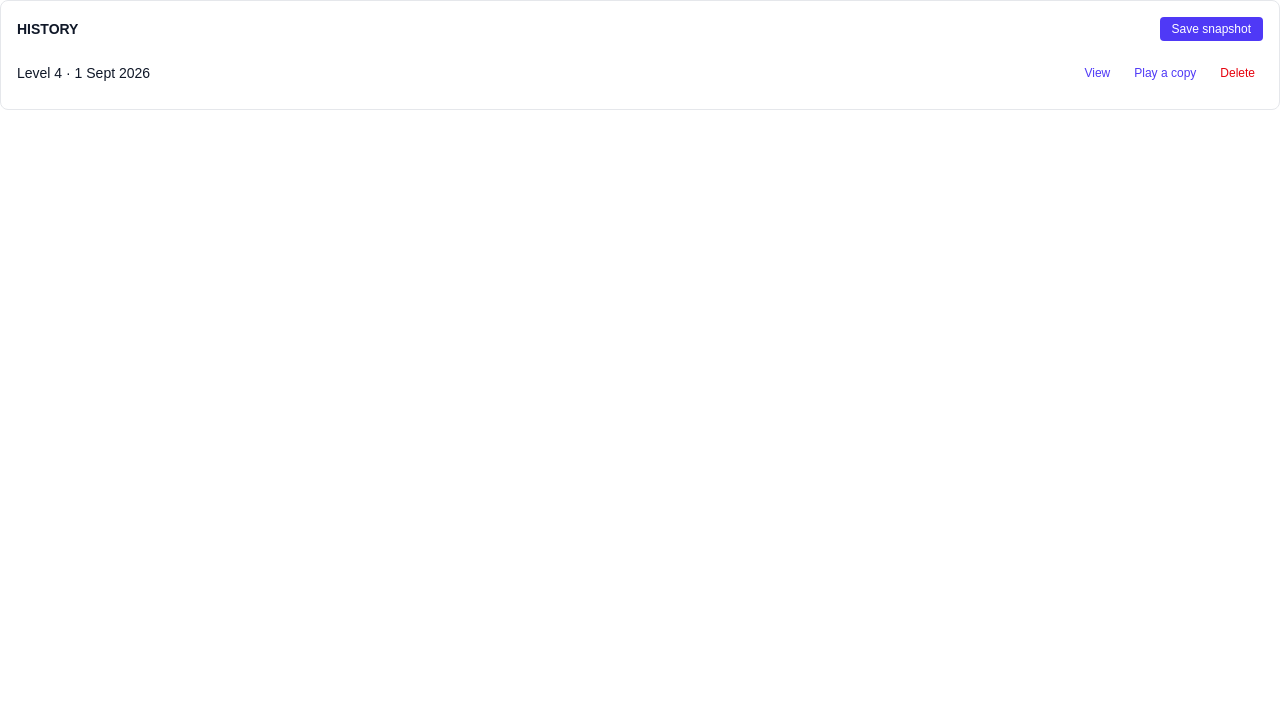
Scenario: CharacterHistorySection (VEG-644) › save snapshot › posts the label, toasts, closes the dialog and refetches the list
This screenshot has width=1280, height=720.
Check: the text "Level 4 · 1 Sept 2026" is shown, box [17,63,150,83]
Click the button "Save snapshot" at (1211,29), box [1160,17,1263,41]
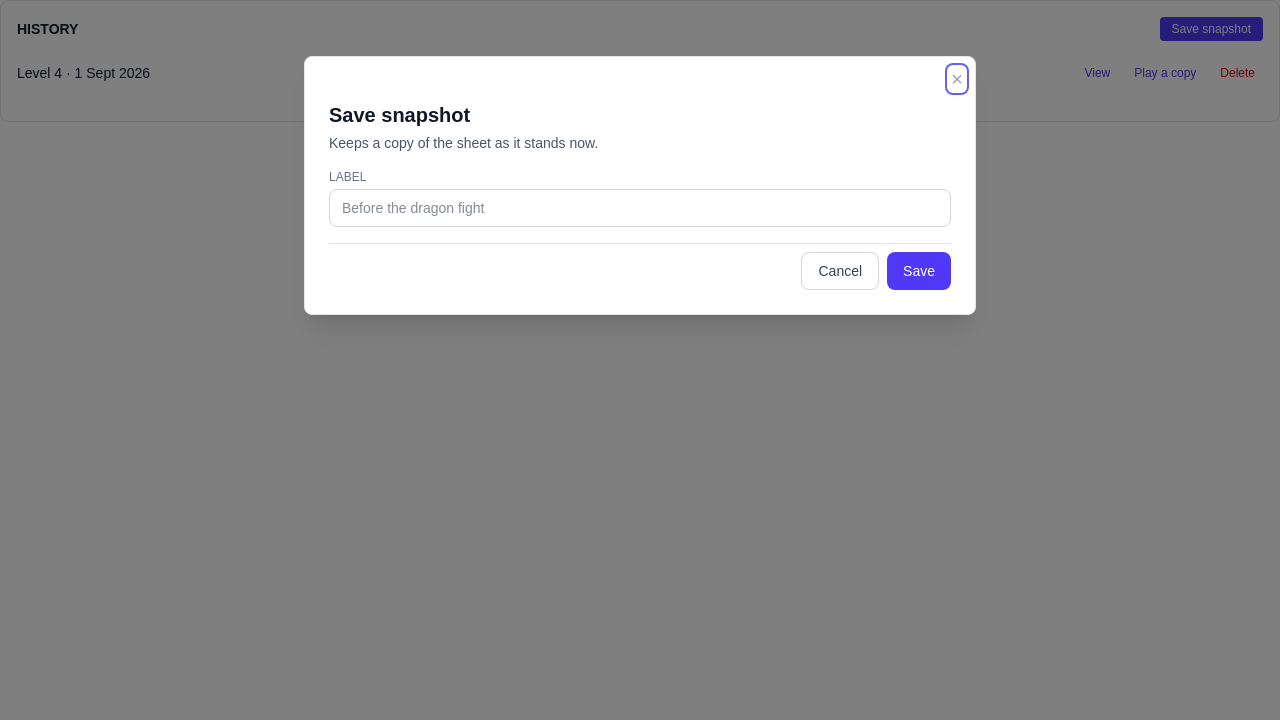
Type "Before the dragon" into the field labelled "Label" at (640,208), box [329,189,951,227]
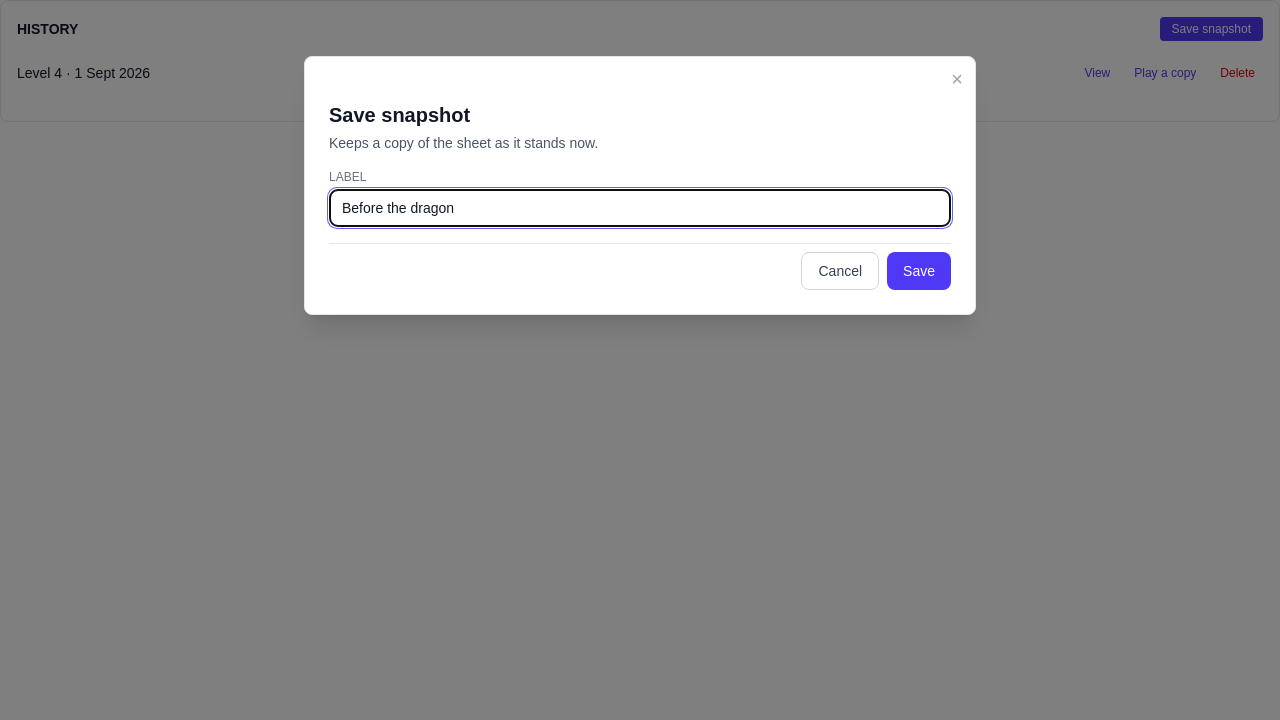
Click the button "Save" at (919,271), box [887,252,951,290]
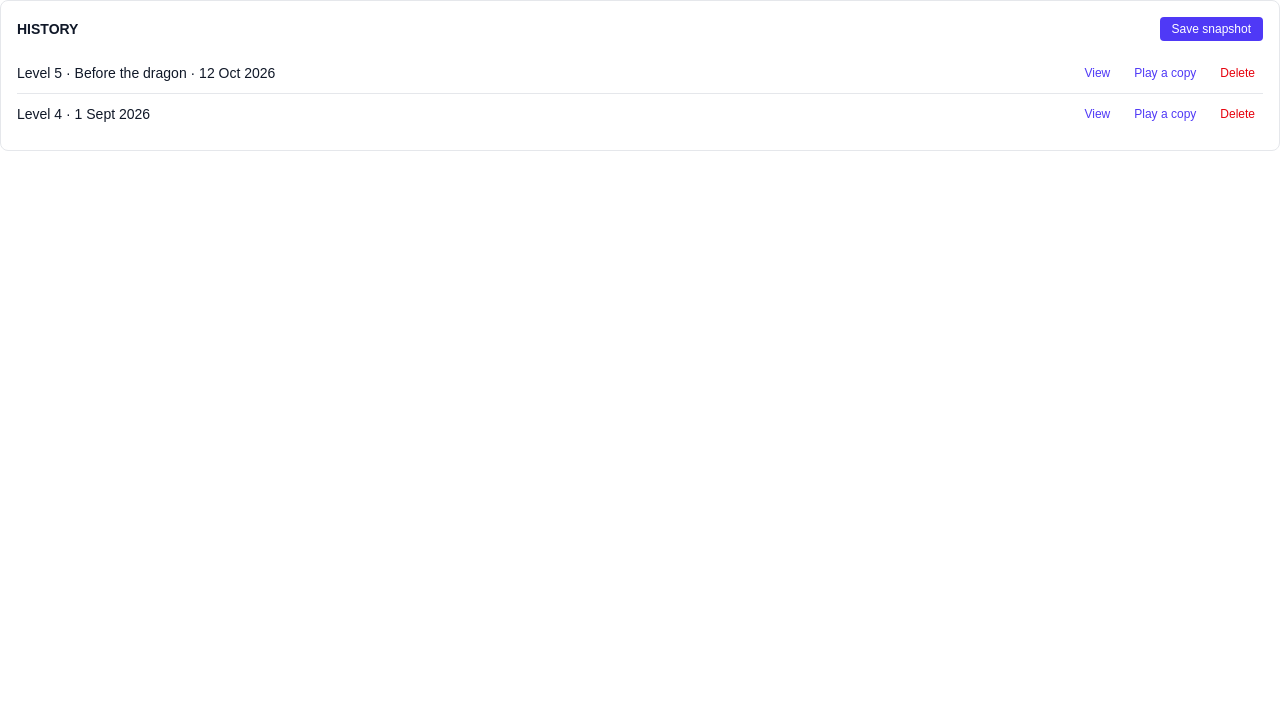
Check: the element with test id "save-snapshot-dialog" is gone
Check: the text "Level 5 · Before the dragon · 12 Oct 2026" is shown, box [17,63,275,83]
Check: the number of list items with test id "snapshot-row" is 2, box [17,53,1263,94]; [17,94,1263,134]
